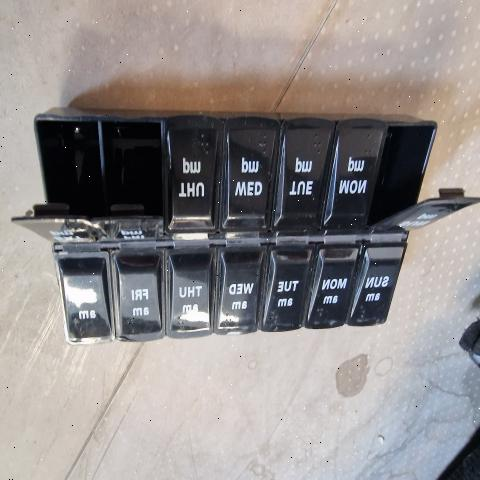Open: (10, 121, 101, 221), (89, 120, 163, 217), (368, 122, 434, 230)
